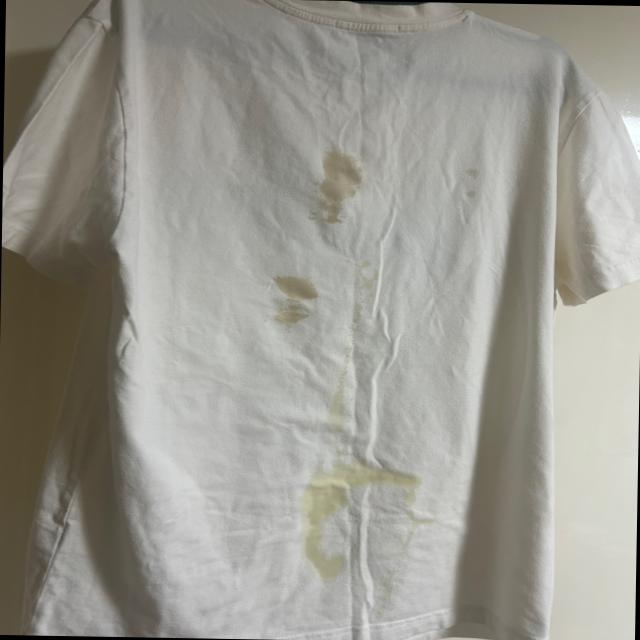stain: (292, 487, 351, 582), (308, 448, 412, 492), (311, 143, 360, 230), (272, 270, 310, 336), (466, 162, 480, 208), (402, 506, 434, 526), (318, 392, 342, 417)
